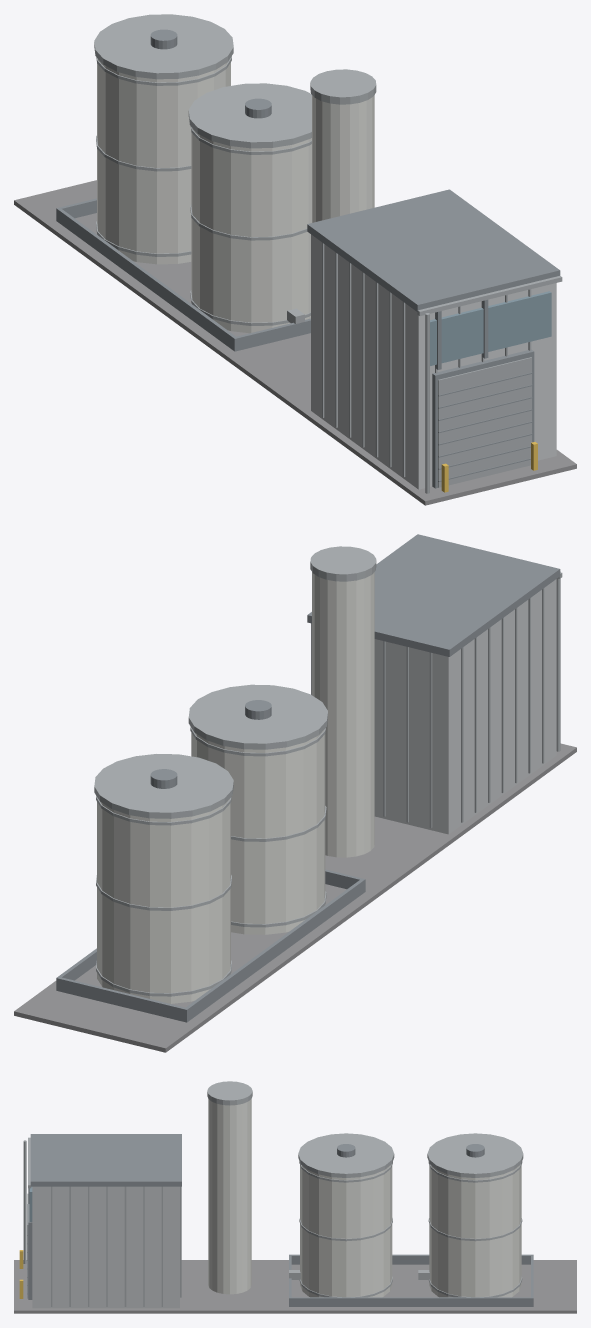
The model's file is industrial_1x4_c.glb.
3 views of the same model, one above another, from view 1: azimuth 30°, elevation 25°; view 2: azimuth 150°, elevation 25°; view 3: azimuth 270°, elevation 25° (orthographic). The views are drawn at different scales.
Visible parts, largest first — view 1: industrial_1x4_c_yard; view 2: industrial_1x4_c_yard; view 3: industrial_1x4_c_yard.
Boxes of the visible parts, x1=… form: industrial_1x4_c_yard: x1=14, y1=14, x2=576, y2=505; industrial_1x4_c_yard: x1=14, y1=534, x2=576, y2=1052; industrial_1x4_c_yard: x1=14, y1=1081, x2=576, y2=1313.
Bounding box in the file's own units: 6.5 × 11.8 × 30.5.
